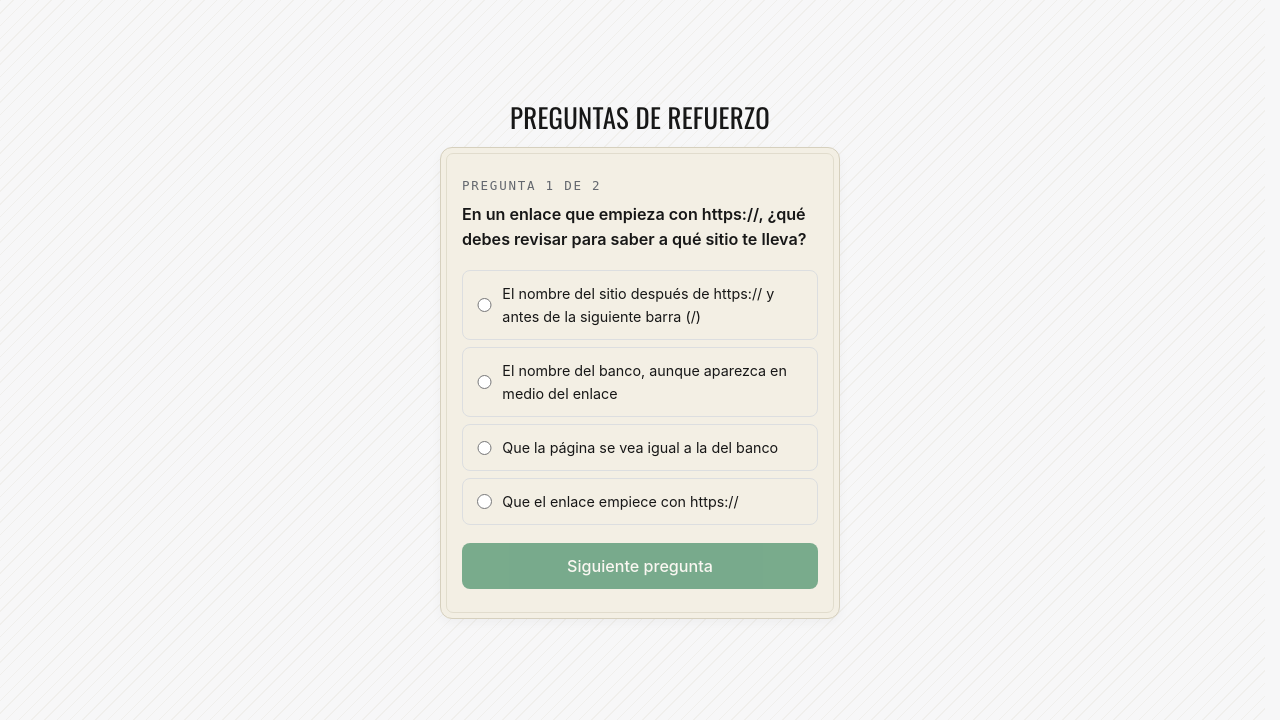
it: ModuleQuiz › al elegir una opción y avanzar, pasa a la segunda pregunta sin mostrar si acertó o no
The image size is (1280, 720).
Click the text "Que el enlace empiece con https://" at [640, 502], box [462,478,818,525]
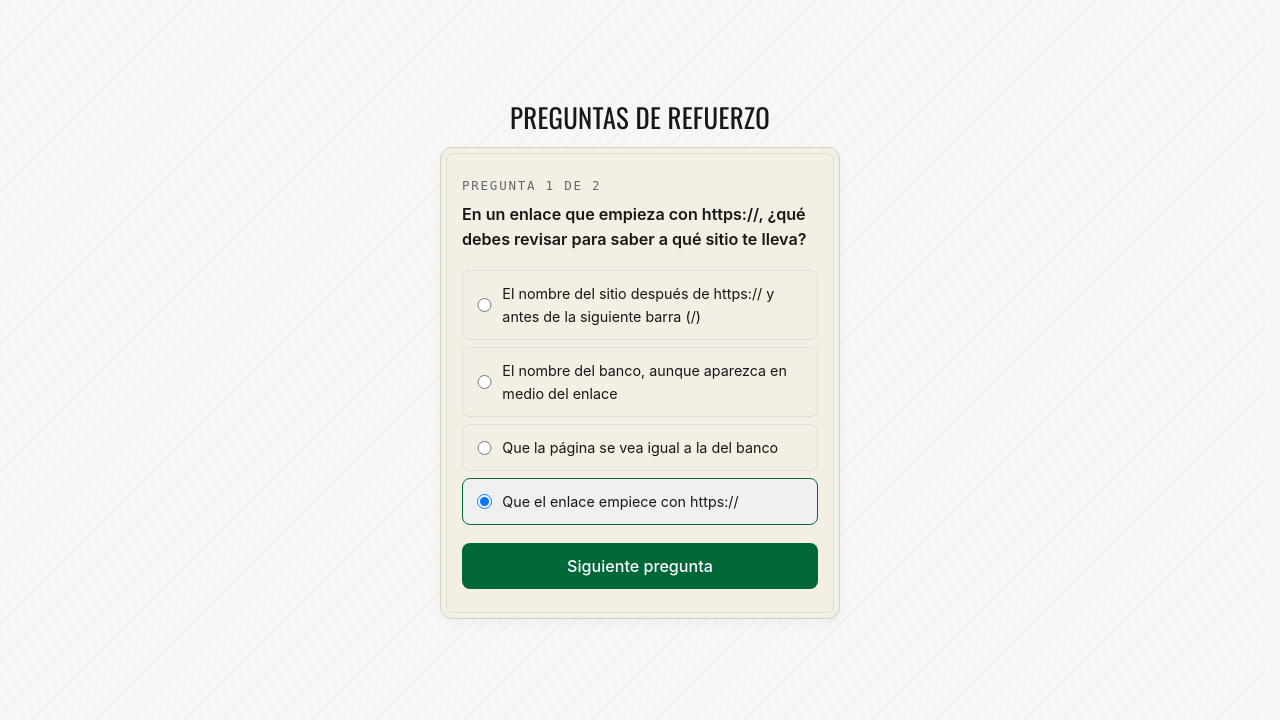
Click the button "Siguiente pregunta" at [640, 566], box [462,543,818,589]
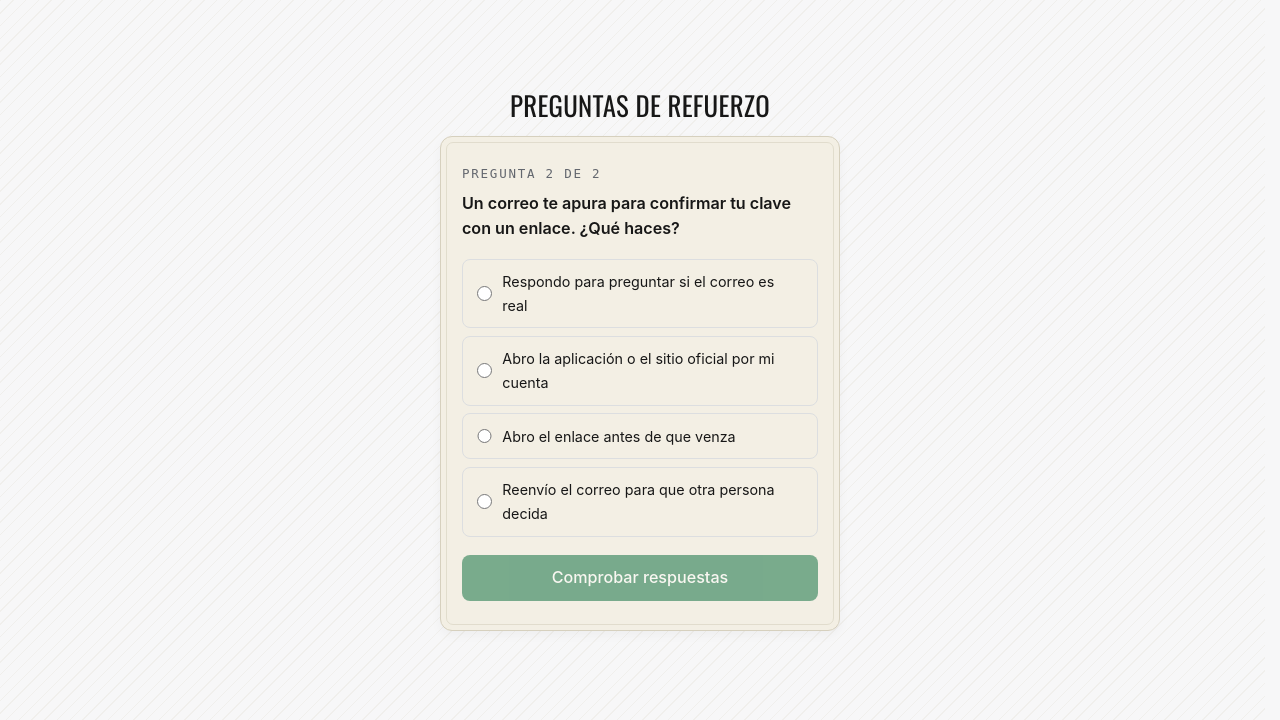
Check: the text "Pregunta 2 de 2" is shown, box [462,166,601,182]
